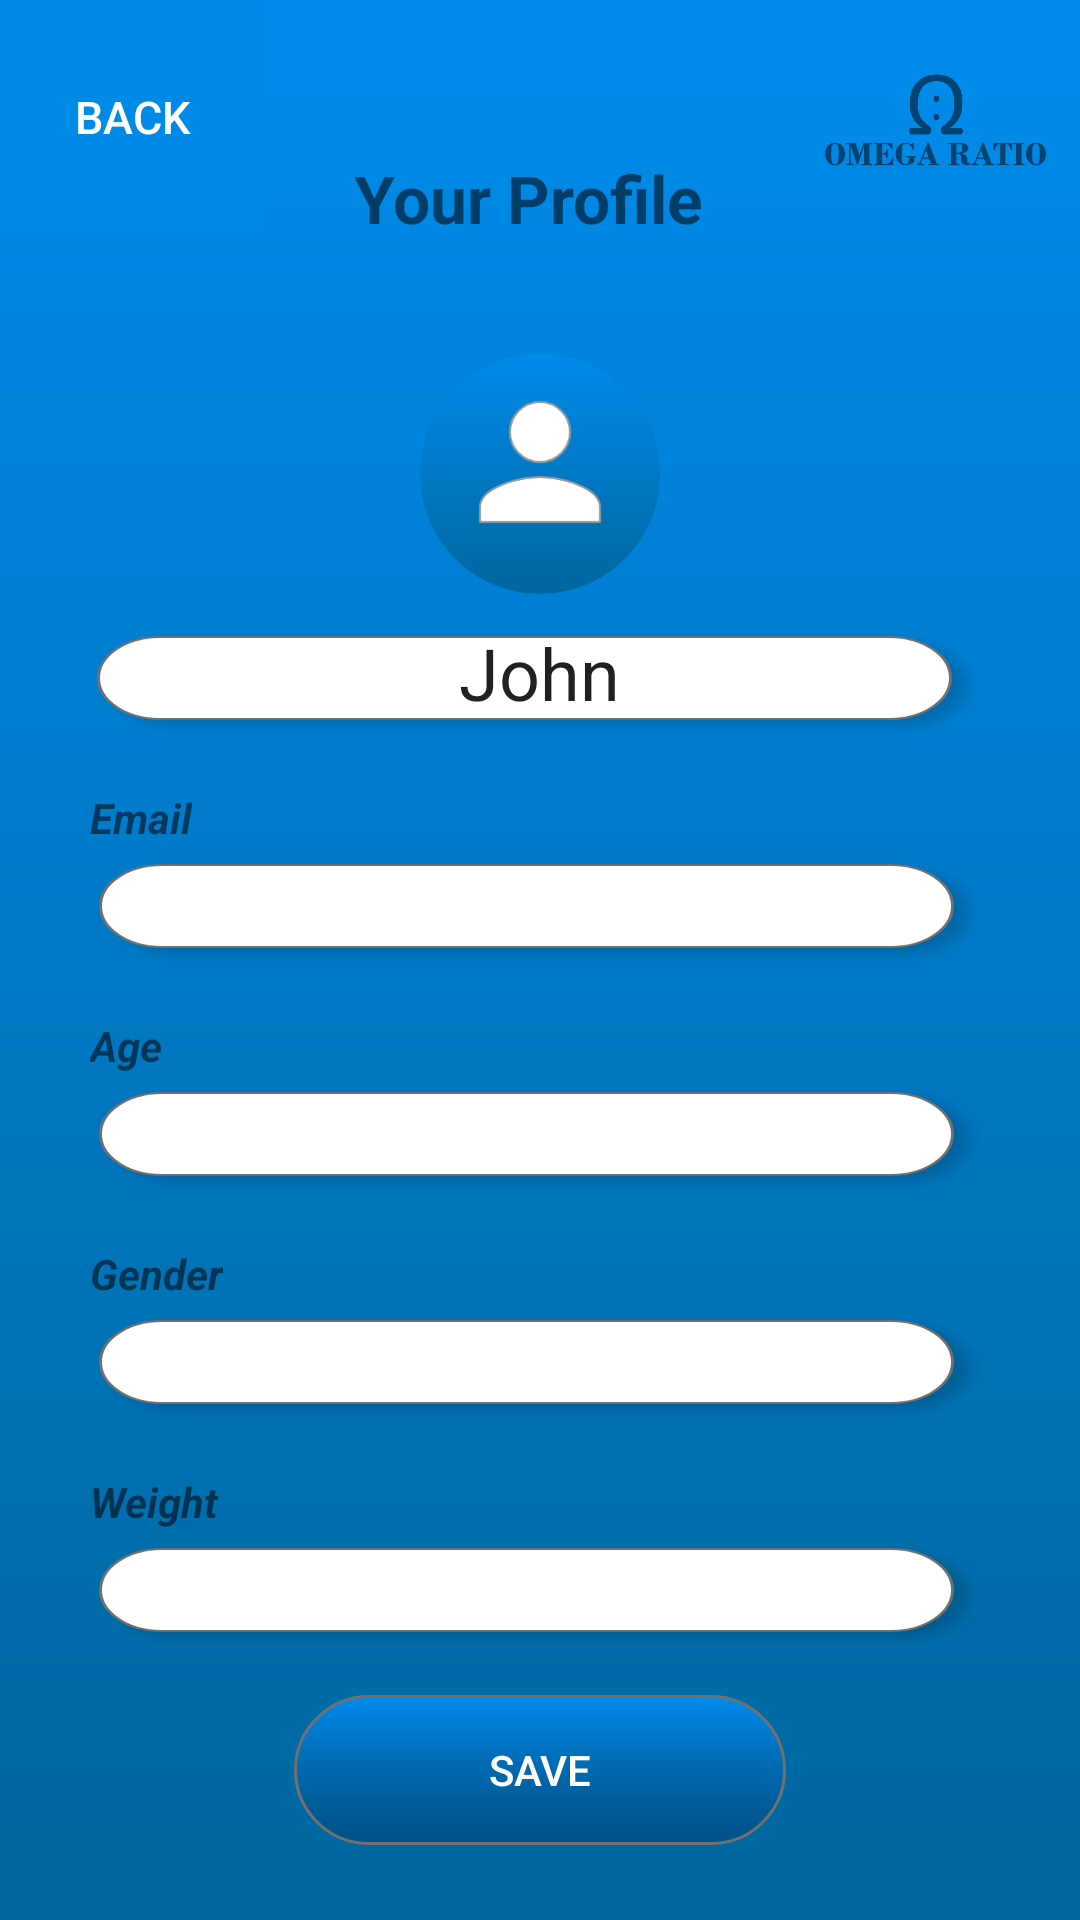

Where icons sit on this 1080*1920 app screen, as (x1, y1, x2, y2):
profilepic: (421, 401, 659, 594)
